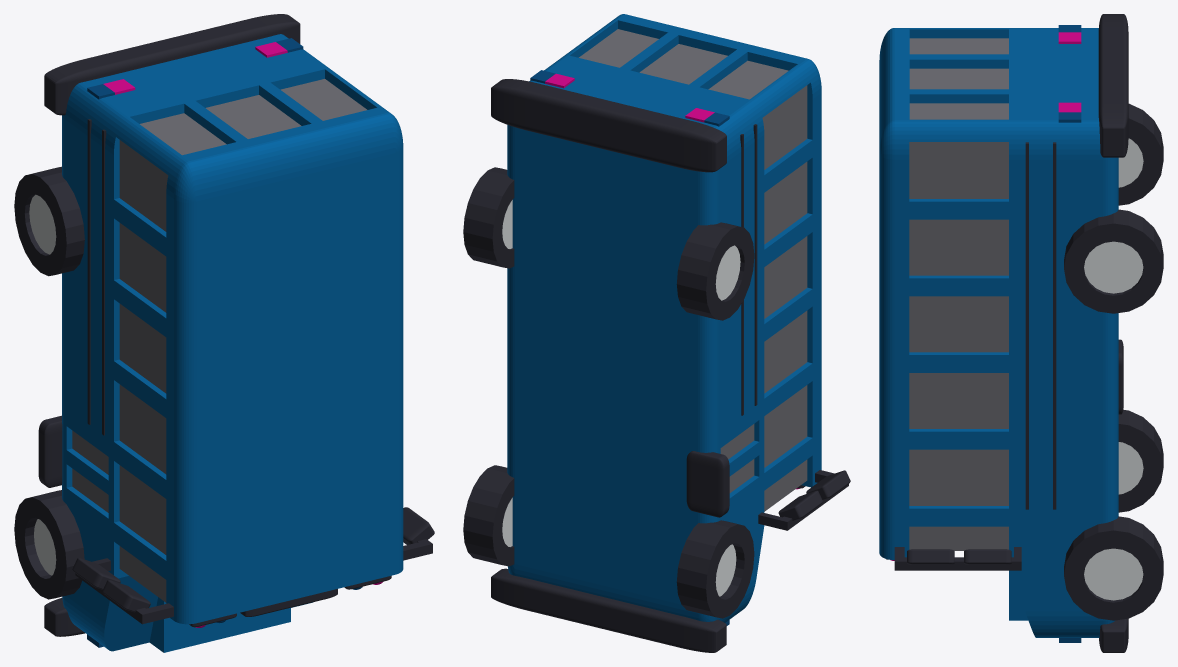
Rendered from bus_blue.glb.
3 views of the same model, side by side, from view 1: azimuth 30°, elevation 25°; view 2: azimuth 150°, elevation 25°; view 3: azimuth 270°, elevation 25° (orthographic). The views are drawn at different scales.
Parts seen in each view (by area): view 1: group_0_16757560, group_0_2829873, group_0_11593967, group_0_14541540, group_0_14093196, group_0_14900002; view 2: group_0_16757560, group_0_2829873, group_0_11593967, group_0_14541540, group_0_14093196; view 3: group_0_16757560, group_0_11593967, group_0_2829873, group_0_14541540, group_0_14900002, group_0_14093196.
Part boxes in pixels (box(x1,y1,x2,y2)): group_0_16757560: box(62, 34, 403, 652); group_0_2829873: box(14, 14, 434, 636); group_0_11593967: box(72, 79, 366, 602); group_0_14541540: box(29, 194, 56, 575); group_0_14093196: box(103, 42, 382, 627); group_0_14900002: box(87, 38, 362, 647); group_0_16757560: box(507, 14, 821, 622); group_0_2829873: box(463, 79, 850, 652); group_0_11593967: box(579, 29, 807, 511); group_0_14541540: box(502, 200, 740, 596); group_0_14093196: box(545, 73, 800, 489); group_0_16757560: box(879, 28, 1118, 637); group_0_11593967: box(909, 38, 1008, 550); group_0_2829873: box(886, 14, 1163, 652); group_0_14541540: box(1084, 138, 1143, 600); group_0_14900002: box(1058, 25, 1081, 642); group_0_14093196: box(890, 32, 1081, 560).
Size of the model in its own units: 68.43 by 118 by 57.04.
